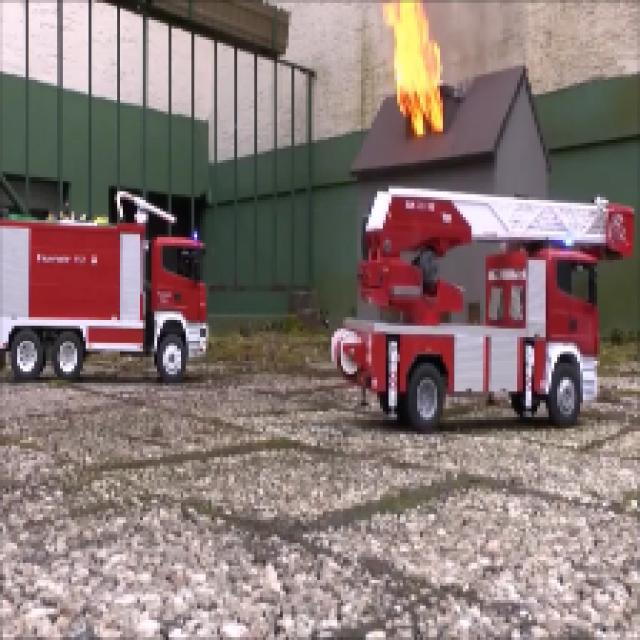fire: (380, 6, 453, 134)
